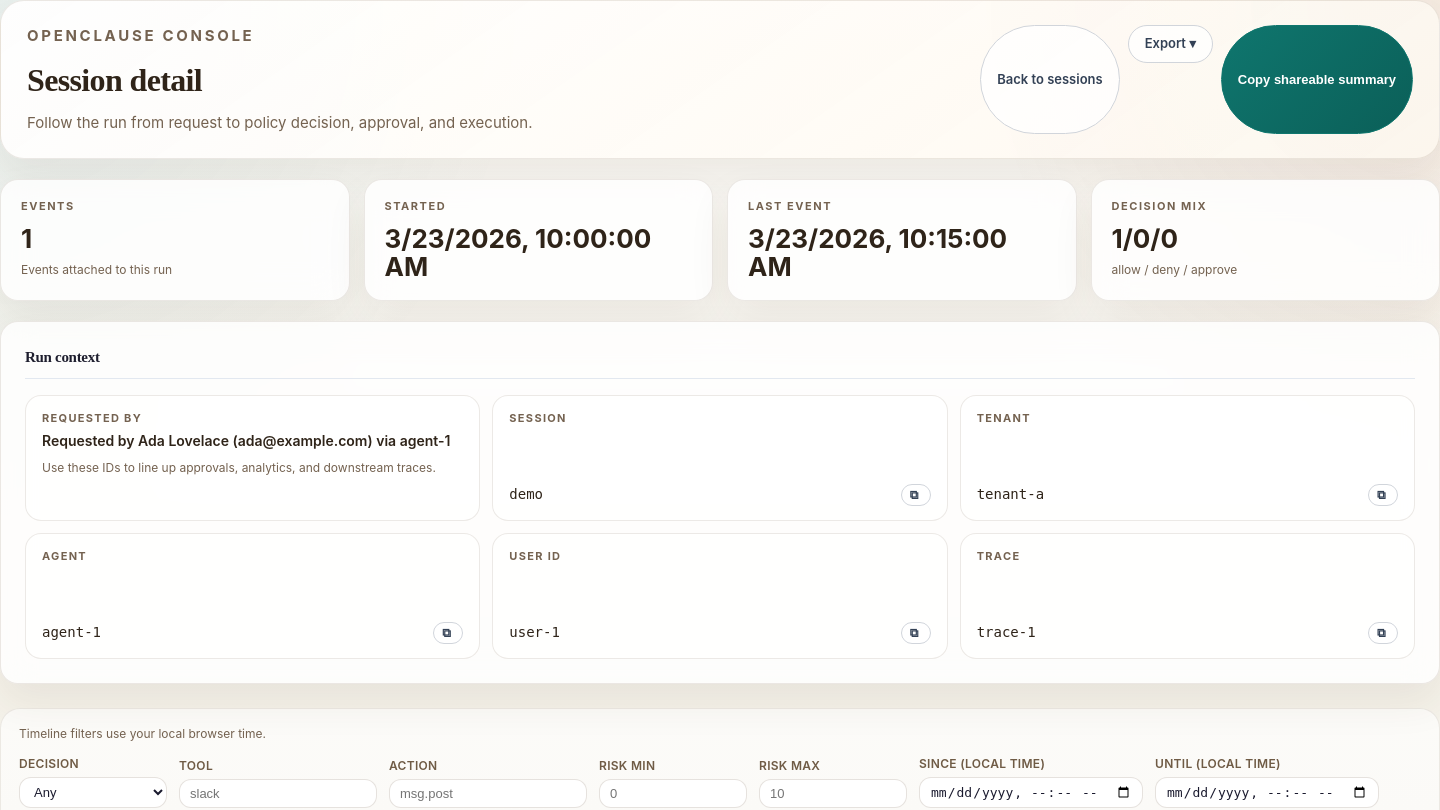
Test: Session detail page › surfaces request ids when a session export fails
Expected: the heading "Session detail" is shown, [27,62,202,98]
What coordinates should you click on to do the following:
click the heading "Export ▾"
I would click on:
 (1170, 44)
Its box is [1128,25,1213,62].
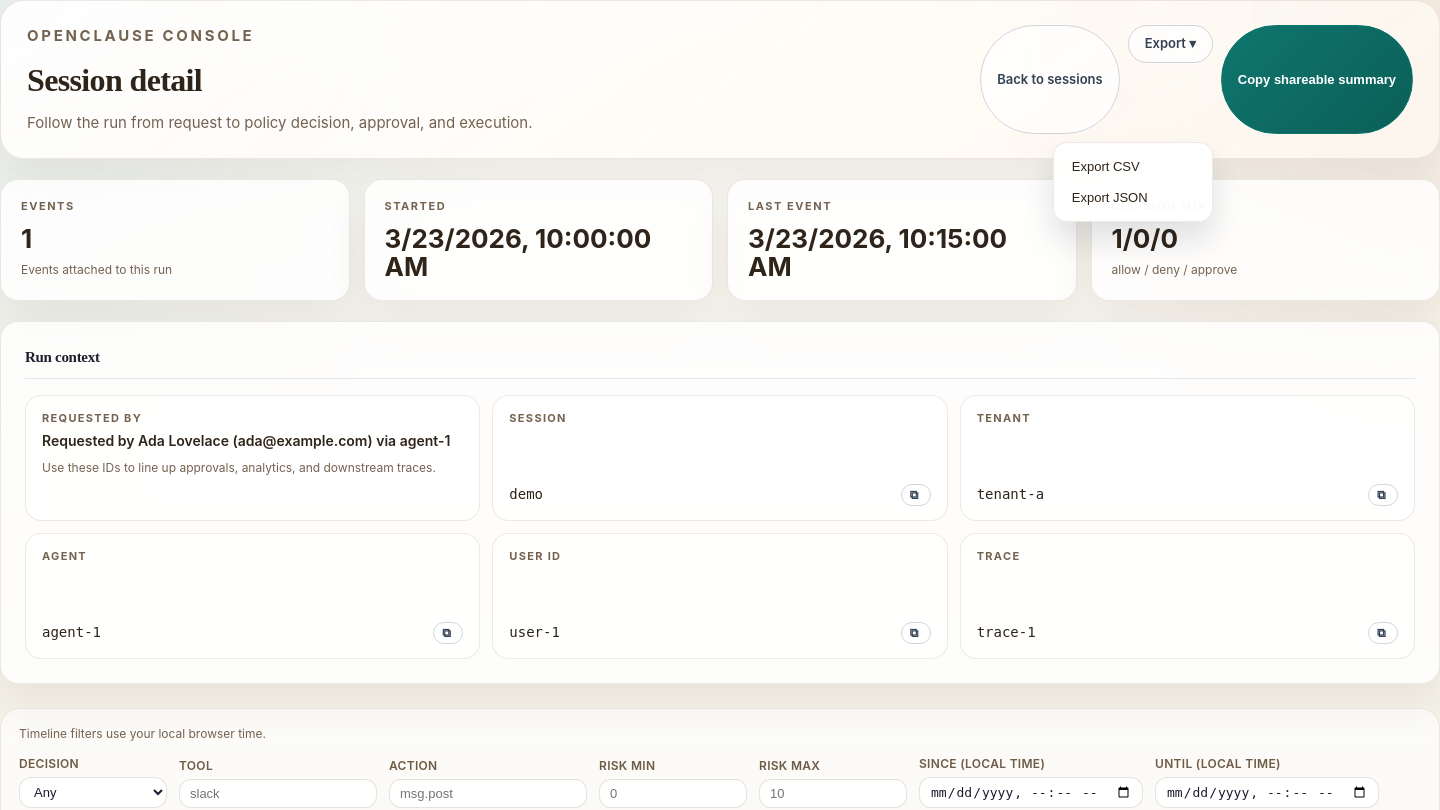
What coordinates should you click on to do the following:
click the button "Export CSV"
I would click on:
 (1133, 166)
Its box is [1062,151,1204,182].
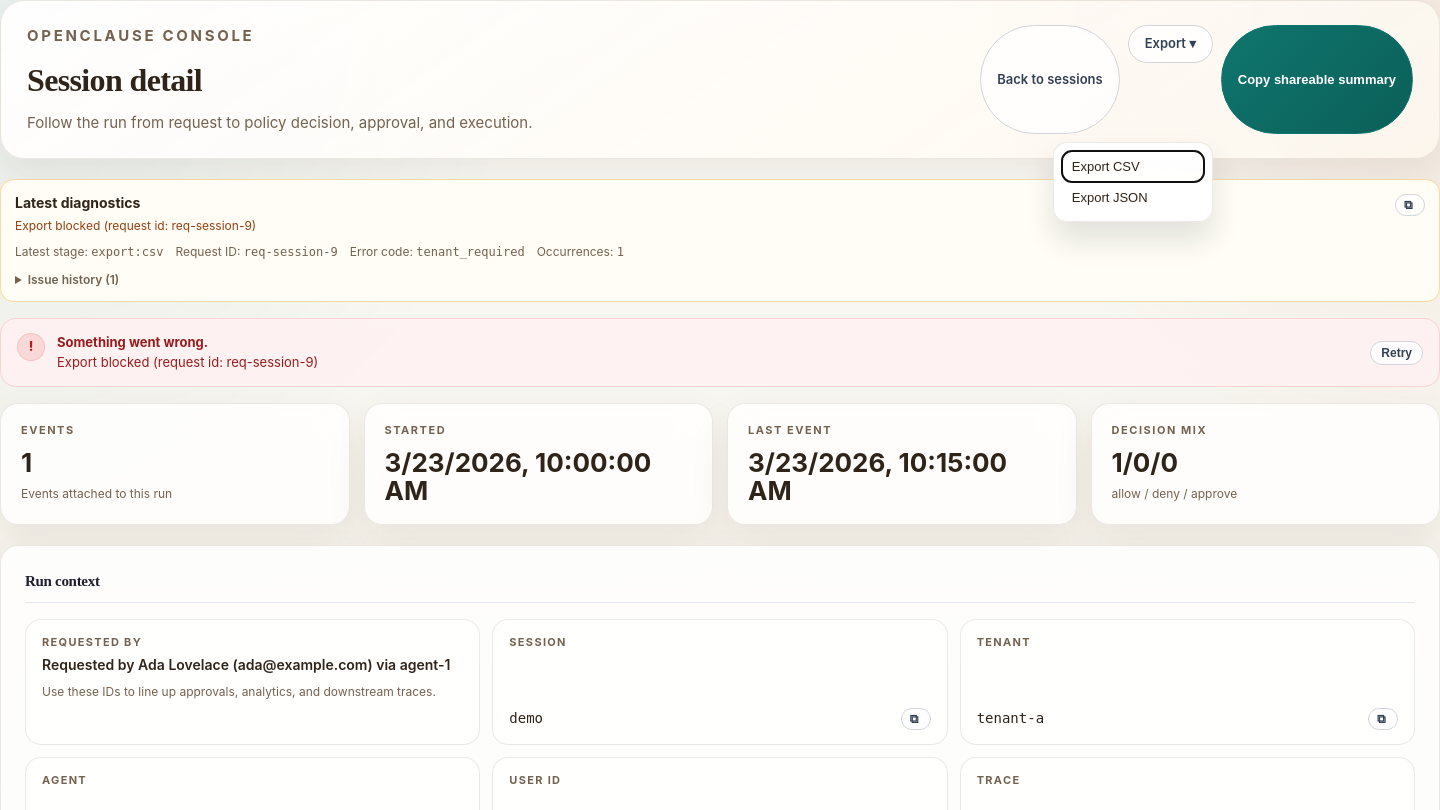
Result: the text "Export blocked (request id: req-session-9)" below "Something went wrong." is shown at [57,354,318,370]
Result: the text "req-session-9" is shown at [244,245,338,259]
Result: the text "tenant_required" is shown at [416,245,525,259]
